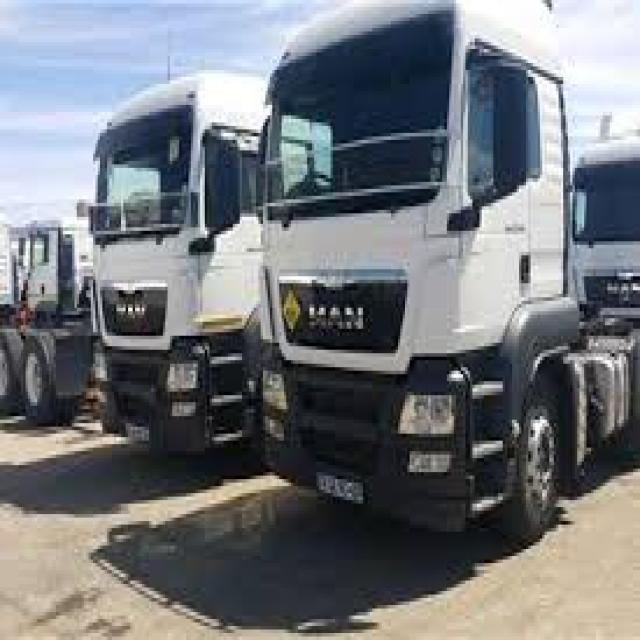Heavy Duty Truck: (251, 18, 638, 549), (76, 35, 246, 490)
